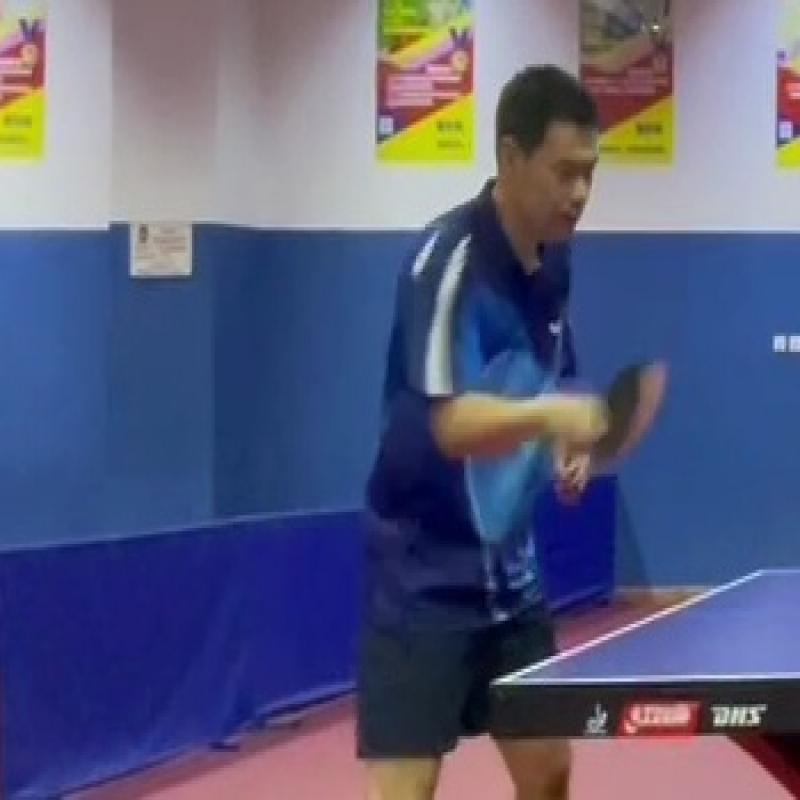bats: (581, 359, 677, 487)
